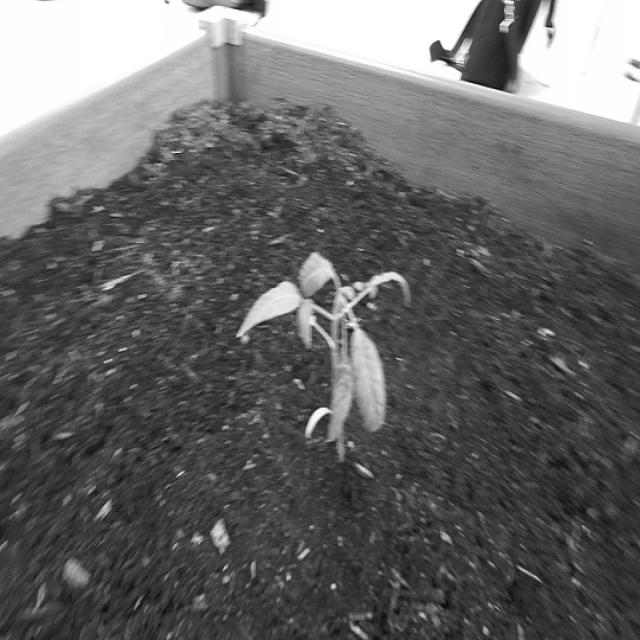Healthy: (236, 249, 414, 460)
